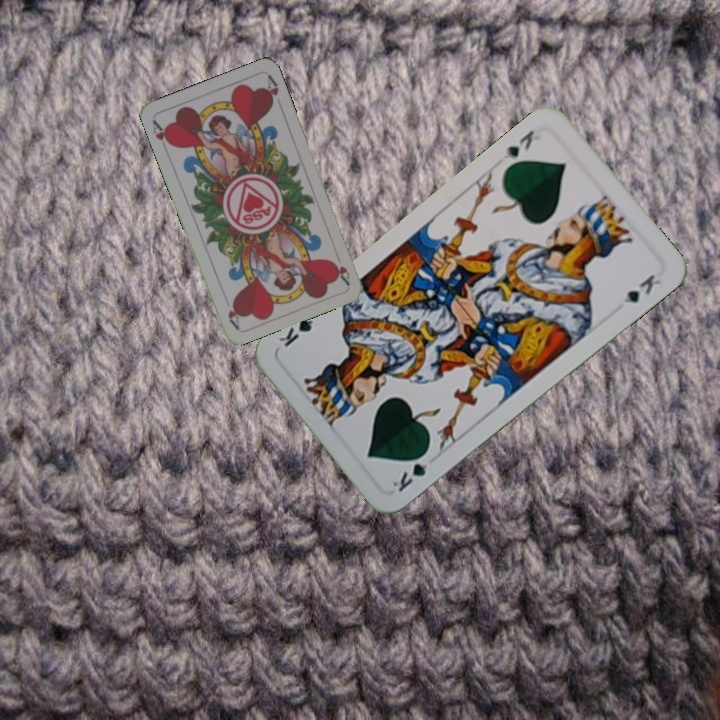GK: (388, 446, 433, 495), (499, 126, 537, 163)
HA: (148, 116, 176, 155), (328, 257, 352, 287)
